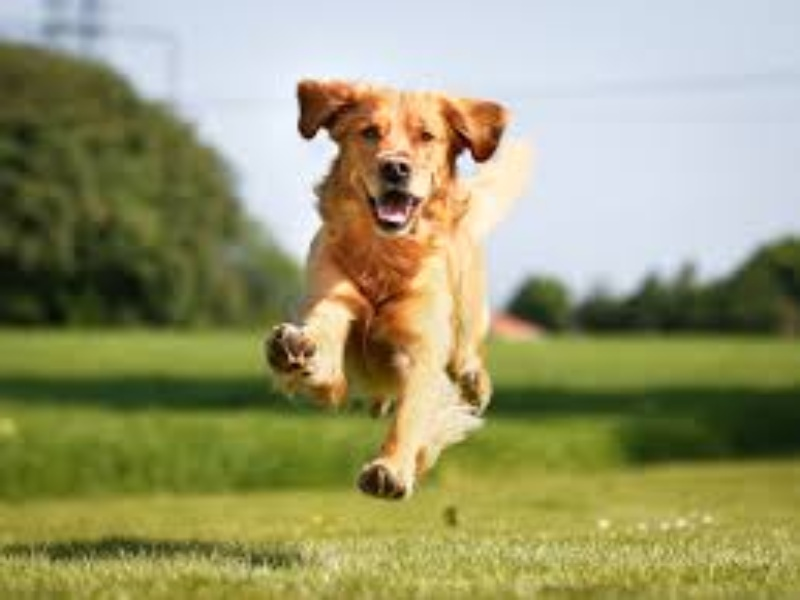dog: (237, 58, 547, 518)
